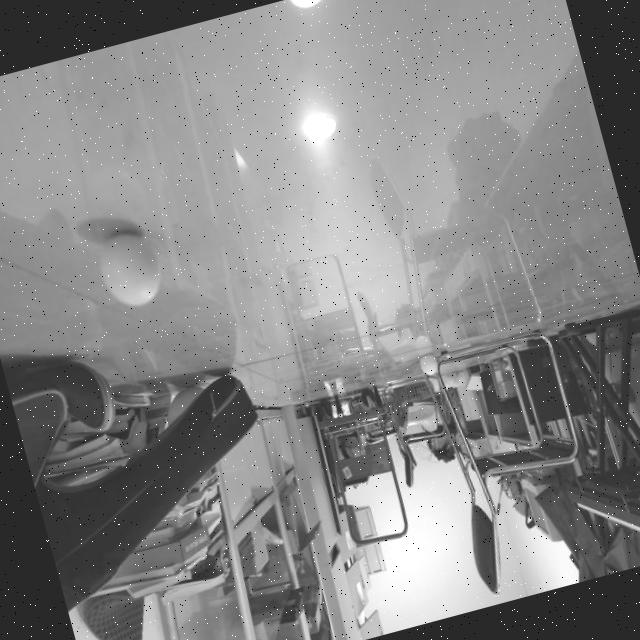ping-pong-ball: (90, 222, 165, 312)
